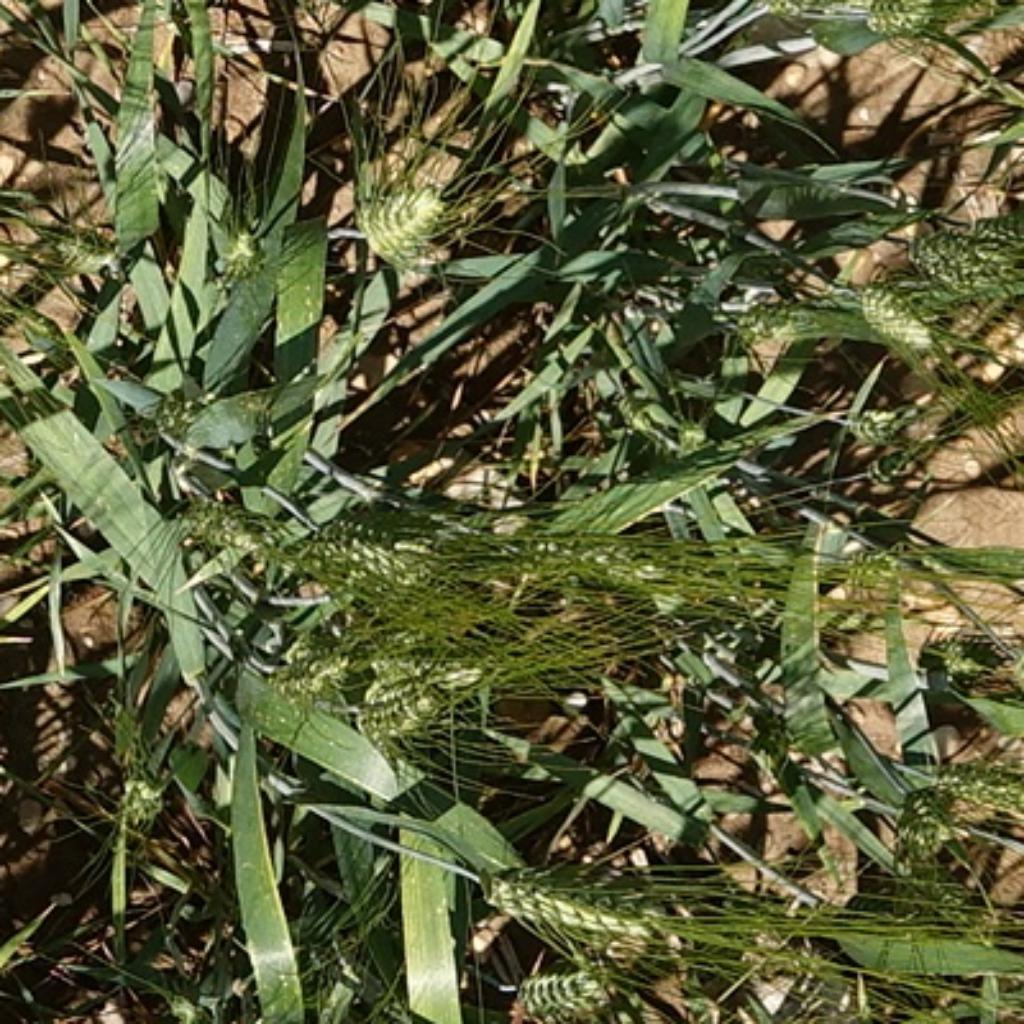0-0: (473, 829, 683, 960), (343, 140, 460, 266), (883, 734, 1013, 844), (360, 637, 491, 744), (505, 521, 687, 596), (252, 927, 385, 1011), (829, 540, 942, 637), (289, 510, 445, 576), (253, 614, 355, 711), (904, 210, 1017, 295), (721, 279, 847, 348), (492, 964, 636, 1024), (207, 209, 289, 307), (879, 866, 979, 943), (40, 209, 120, 304), (844, 268, 934, 350), (171, 486, 266, 558), (842, 401, 924, 458), (107, 752, 166, 821), (852, 0, 960, 34)
